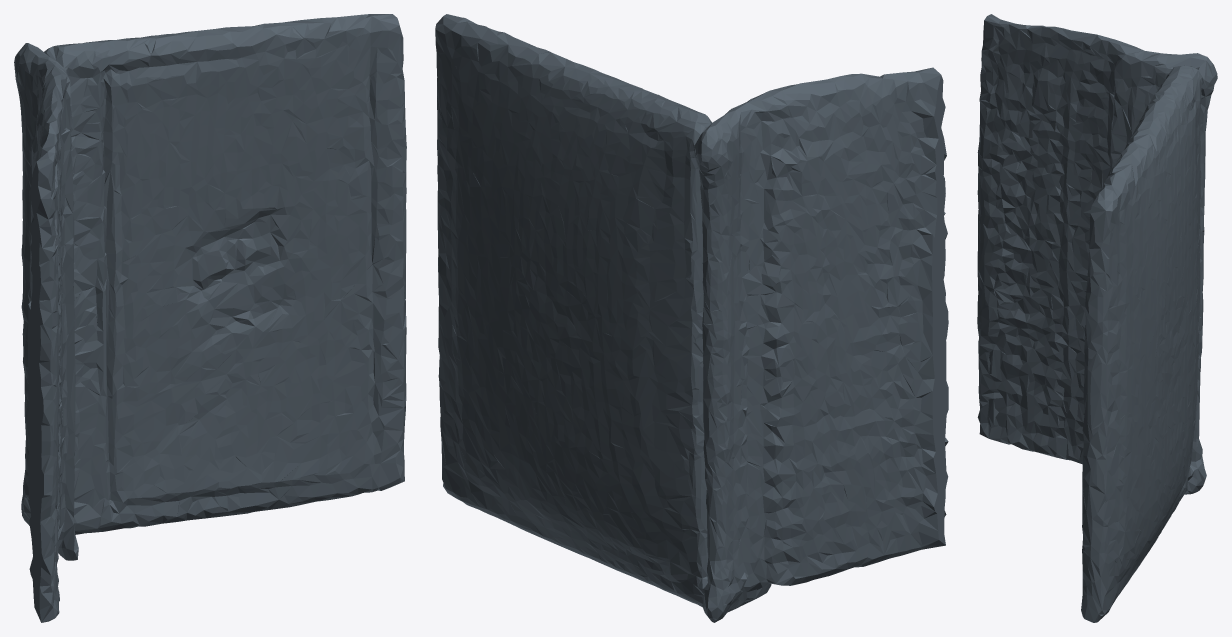
File: improved.glb
3 views of the same model, side by side, from view 1: azimuth 30°, elevation 25°; view 2: azimuth 150°, elevation 25°; view 3: azimuth 270°, elevation 25° (orthographic). The views are drawn at different scales.
Visible parts, largest first — view 1: world; view 2: world; view 3: world.
Boxes of the visible parts, left/top/right/bottom form: world: left=14, top=14, right=406, bottom=622; world: left=435, top=14, right=948, bottom=622; world: left=977, top=14, right=1217, bottom=622.
Size of the model in its own units: 0.25 by 0.2752 by 0.134.
